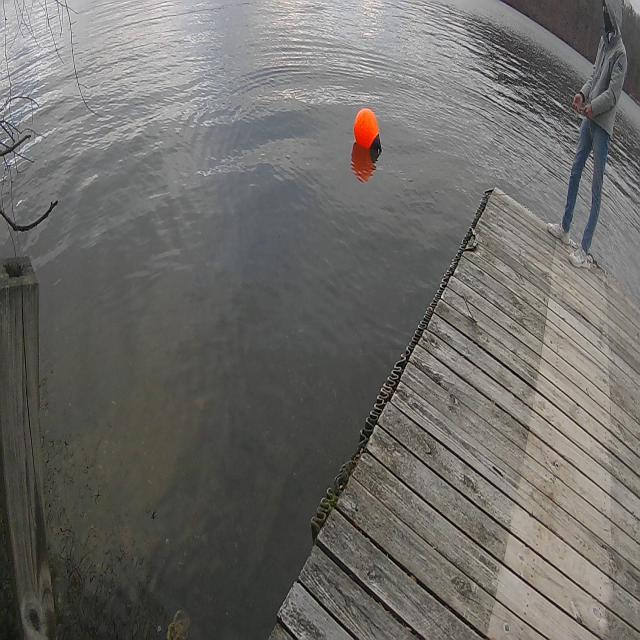Buoy: (352, 104, 386, 168)
